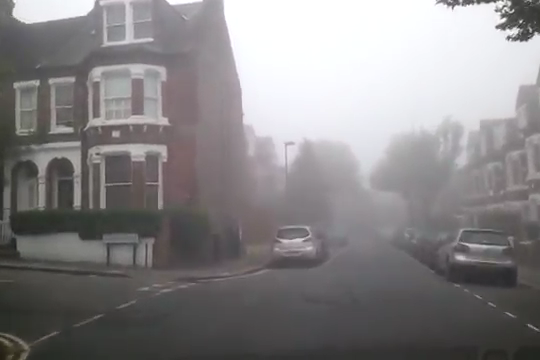car: (433, 227, 519, 285), (401, 222, 455, 269), (268, 224, 326, 264)
